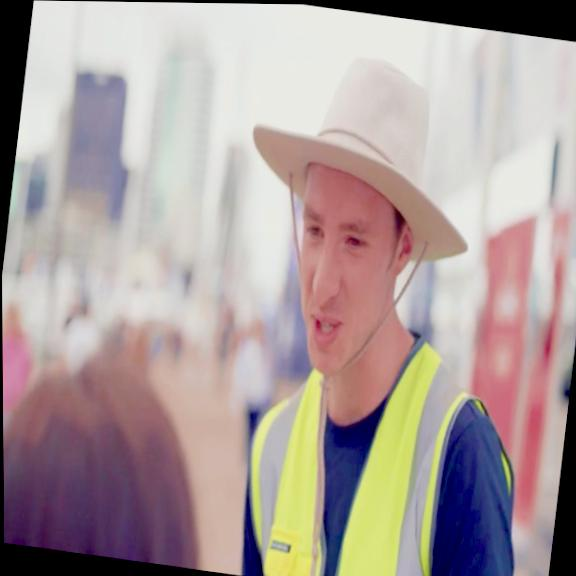safety_vest: (230, 303, 535, 576)
